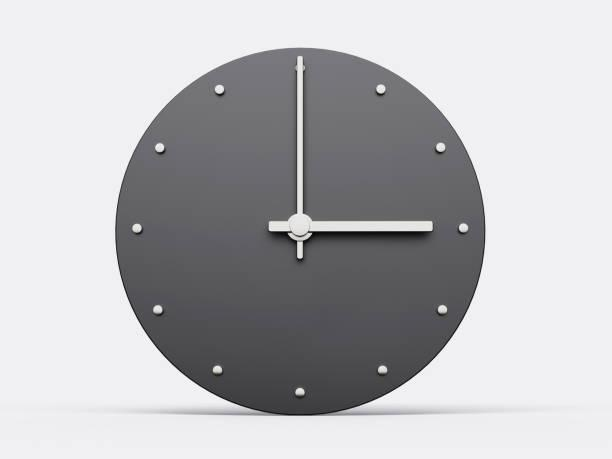clock: (112, 44, 492, 429)
